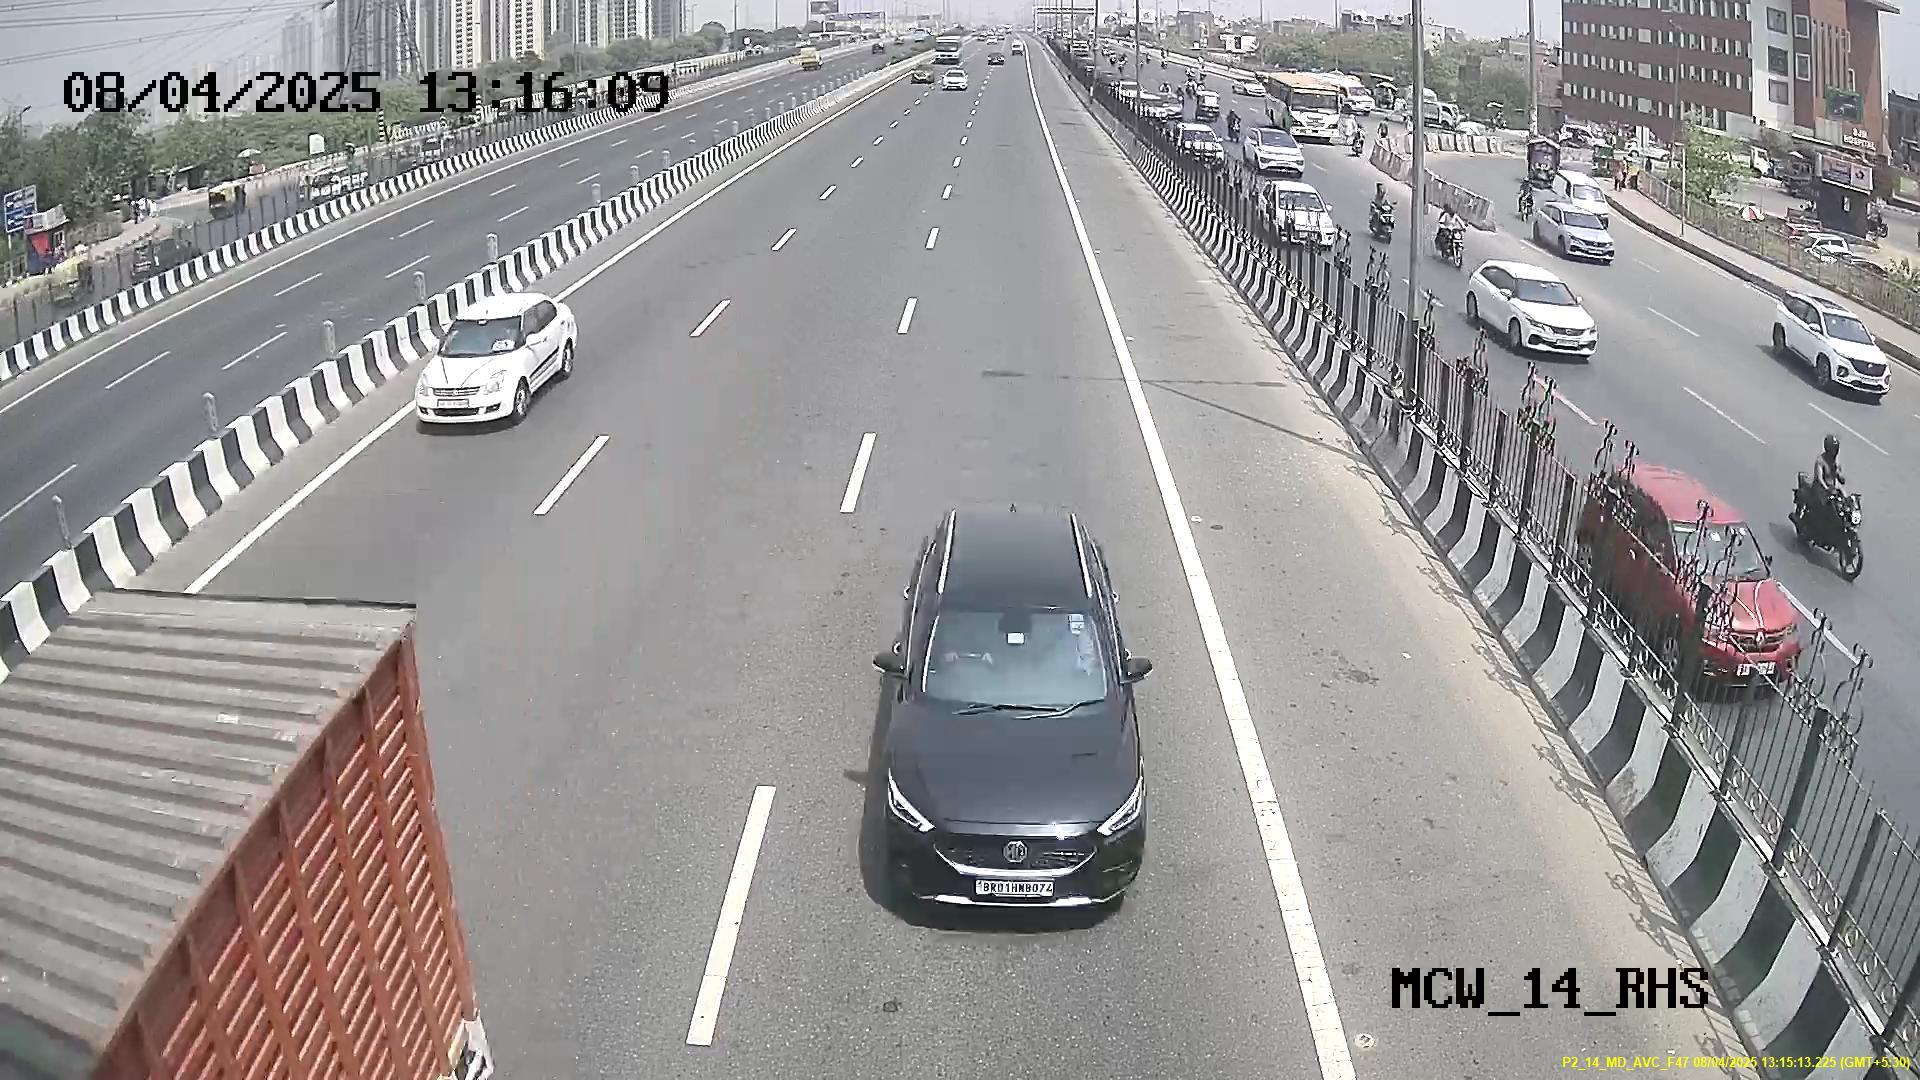car: (868, 579, 1154, 923), (409, 305, 546, 429)
